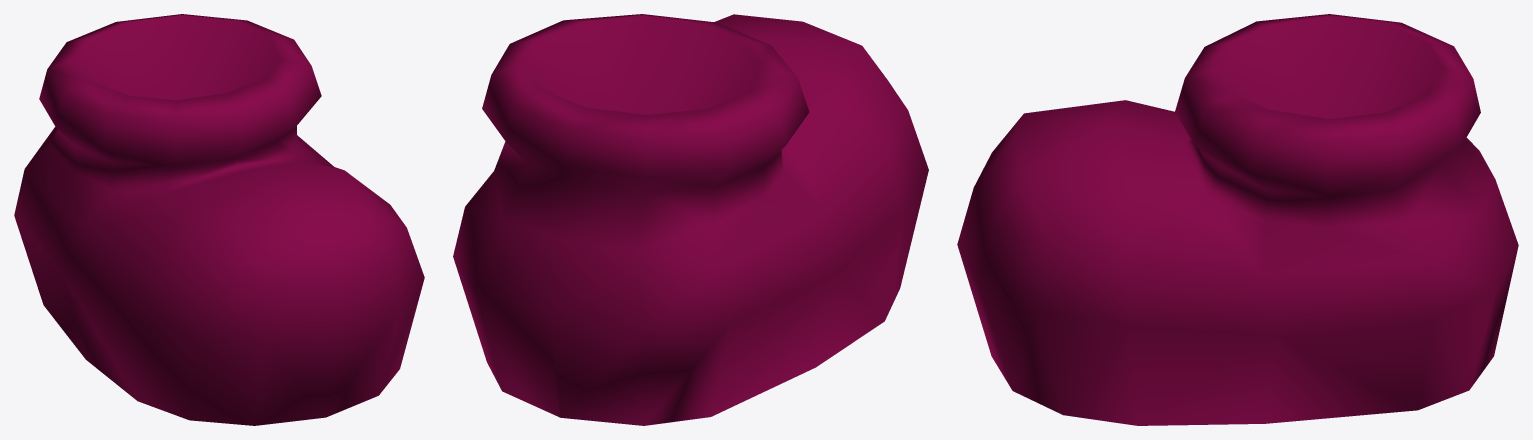
File: WigglerShoe.fbx
The picture shows the model from 3 angles, left to right: view 1: azimuth 30°, elevation 25°; view 2: azimuth 150°, elevation 25°; view 3: azimuth 270°, elevation 25°; orthographic projection. The views are drawn at different scales.
Parts seen in each view (by area): view 1: Shoe; view 2: Shoe; view 3: Shoe.
Boxes of the visible parts, <box> form: Shoe: <box>14,14,424,425</box>; Shoe: <box>453,14,928,425</box>; Shoe: <box>957,14,1518,425</box>.
Bounding box in the file's own units: 216 × 327 × 185.
